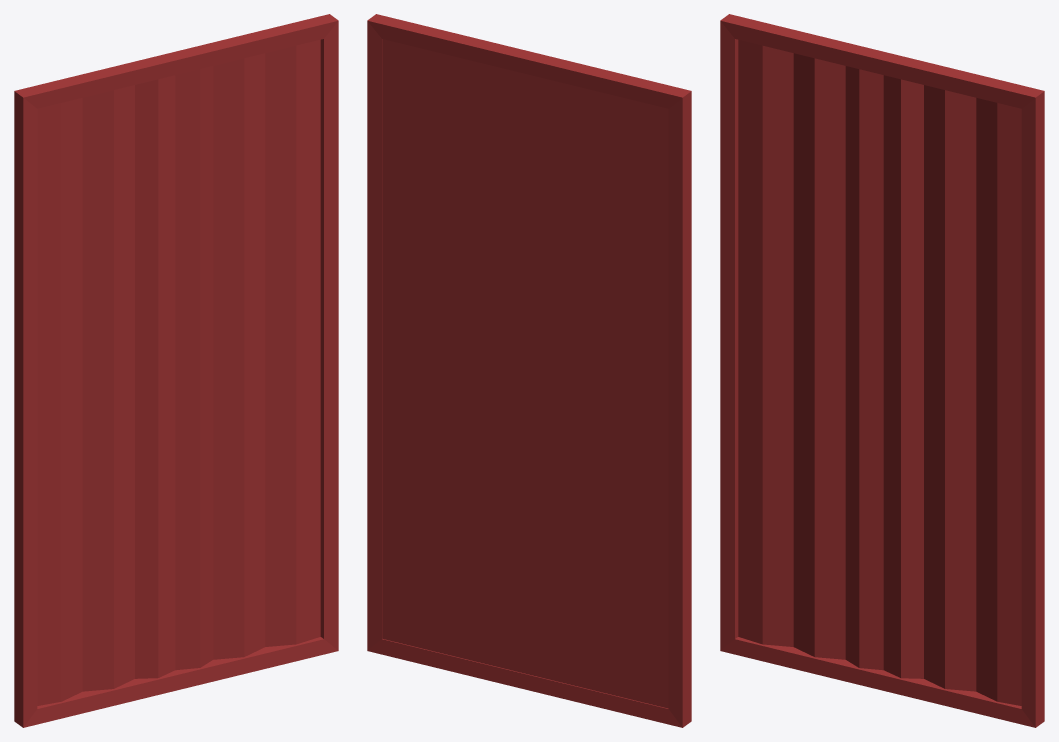
The model's file is PuertaPatio.fbx.
The picture shows the model from 3 angles, left to right: view 1: azimuth 30°, elevation 25°; view 2: azimuth 150°, elevation 25°; view 3: azimuth 330°, elevation 25°; orthographic projection.
Visible parts, largest first — view 1: Cube; view 2: Cube; view 3: Cube.
Boxes of the visible parts, x1=… form: Cube: x1=14, y1=14, x2=338, y2=727; Cube: x1=367, y1=14, x2=691, y2=727; Cube: x1=720, y1=14, x2=1044, y2=727.
Size of the model in its own units: 220 by 420 by 11.
